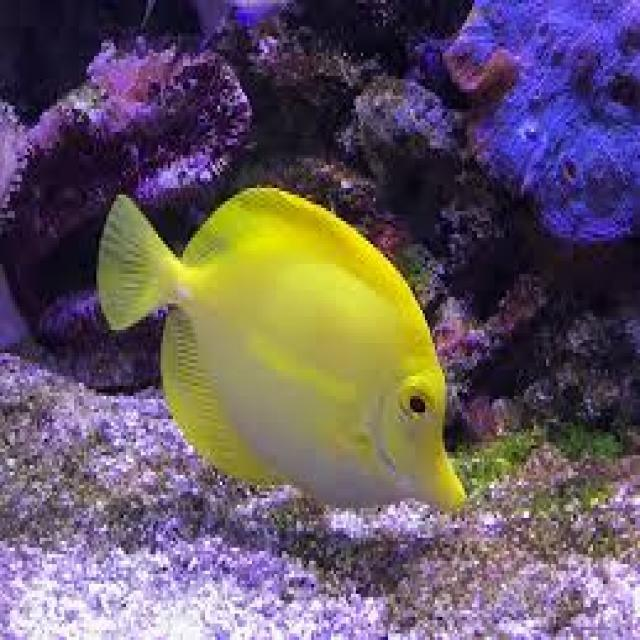YellowTang: (88, 158, 479, 547)
